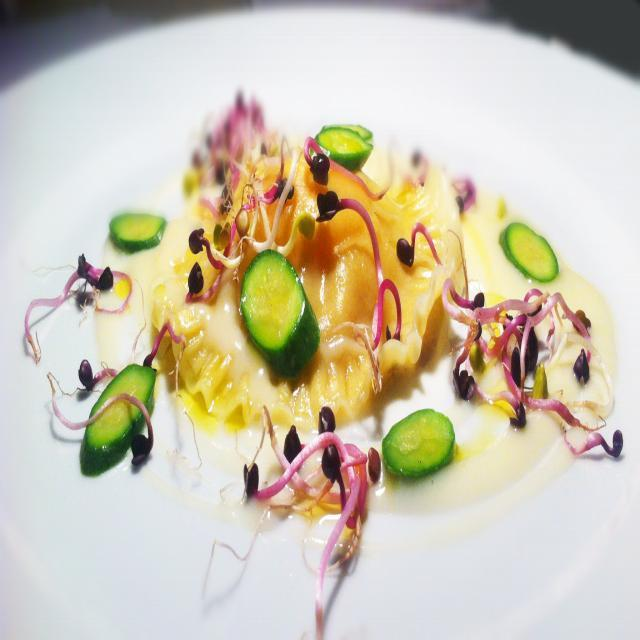Pasta with carbonara sauce: (95, 74, 614, 560)
